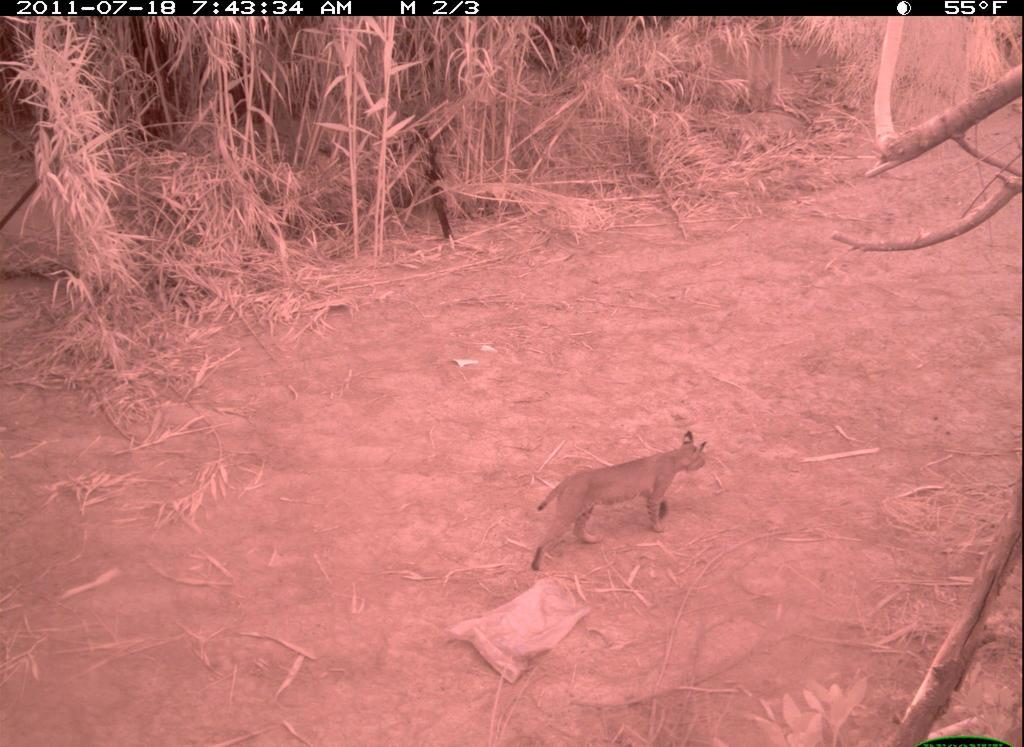bobcat: (515, 420, 726, 580)
